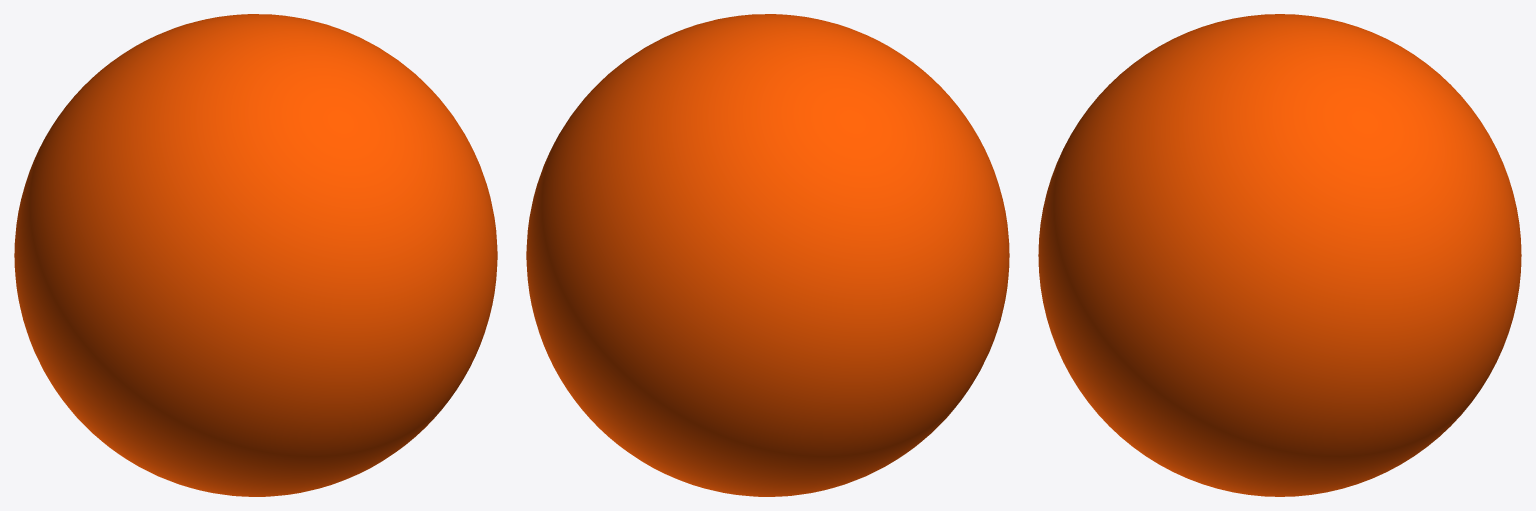
3 views of the same model, side by side, from view 1: azimuth 30°, elevation 25°; view 2: azimuth 150°, elevation 25°; view 3: azimuth 270°, elevation 25° (orthographic).
Visible parts, largest first — view 1: Body2; view 2: Body2; view 3: Body2.
Part boxes in pixels (x1,y1,x2,y2): Body2: [14, 14, 497, 496]; Body2: [526, 14, 1009, 496]; Body2: [1038, 14, 1521, 496].
Bounding box in the file's own units: 40 × 39.99 × 40.
